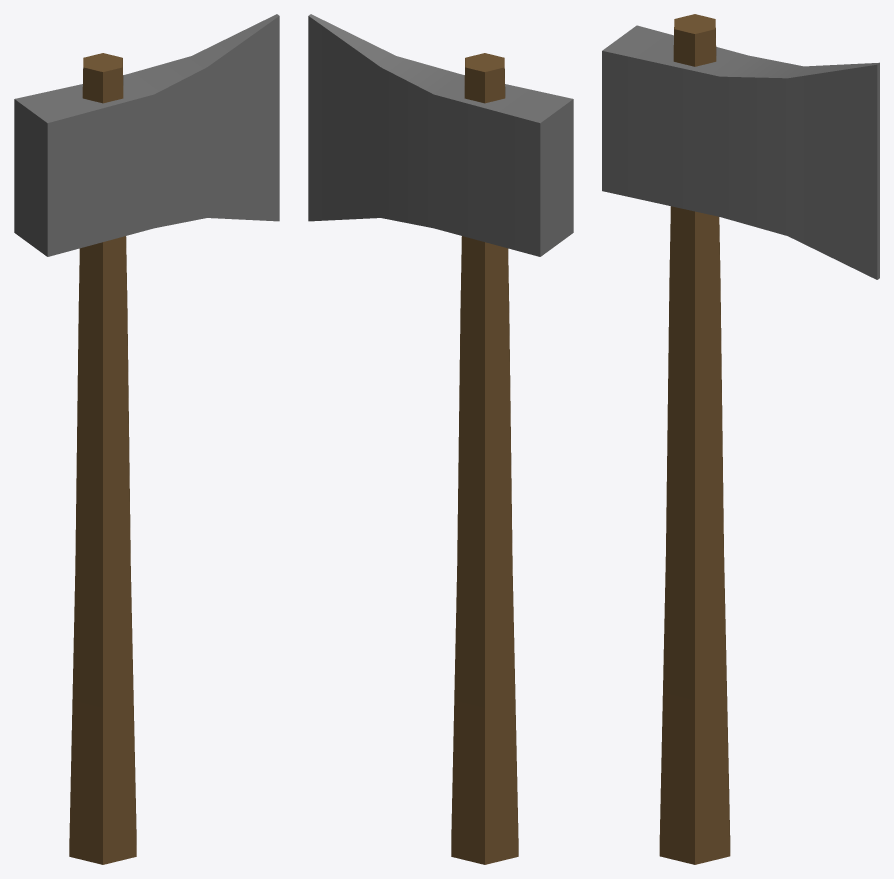
Rendered from Axe.fbx.
The picture shows the model from 3 angles, left to right: view 1: azimuth 30°, elevation 25°; view 2: azimuth 150°, elevation 25°; view 3: azimuth 330°, elevation 25°; orthographic projection. The views are drawn at different scales.
Parts seen in each view (by area): view 1: Axe; view 2: Axe; view 3: Axe.
Boxes of the visible parts, bbox=[...] form: Axe: bbox=[14, 14, 279, 864]; Axe: bbox=[308, 14, 573, 864]; Axe: bbox=[602, 14, 879, 864].
Size of the model in its own units: 0.3432 by 1.05 by 0.0809.
